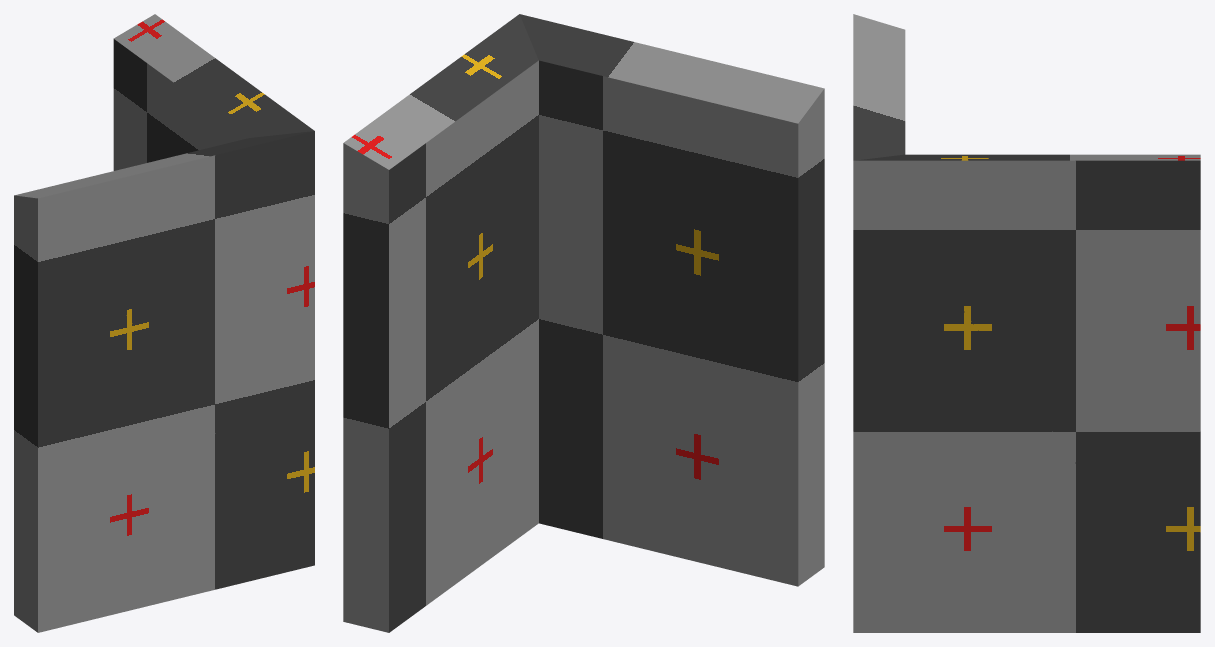
File: wall_corner.fbx
The picture shows the model from 3 angles, left to right: view 1: azimuth 30°, elevation 25°; view 2: azimuth 150°, elevation 25°; view 3: azimuth 270°, elevation 25°; orthographic projection. The views are drawn at different scales.
Visible parts, largest first — view 1: wall_corner; view 2: wall_corner; view 3: wall_corner.
Boxes of the visible parts, box(x1,y1,x2,y2) form: wall_corner: box(14, 14, 314, 632); wall_corner: box(343, 14, 824, 632); wall_corner: box(853, 14, 1200, 632).
Size of the model in its own units: 200 by 300 by 200.
